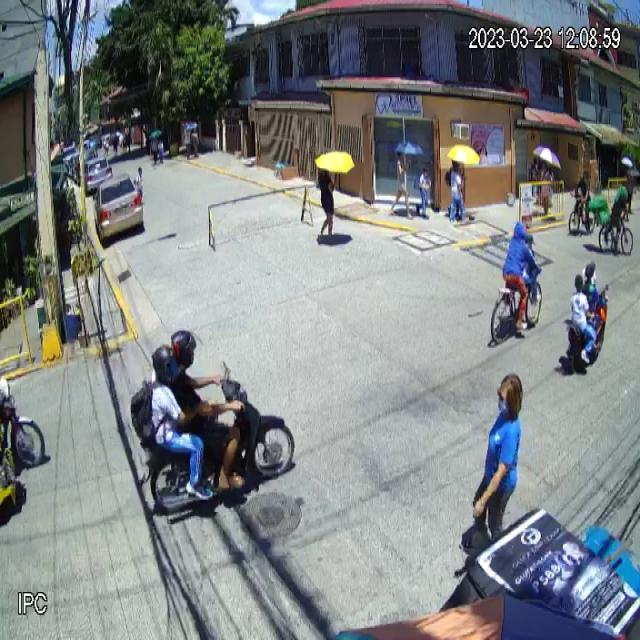Motorcycle: (136, 363, 295, 517)
